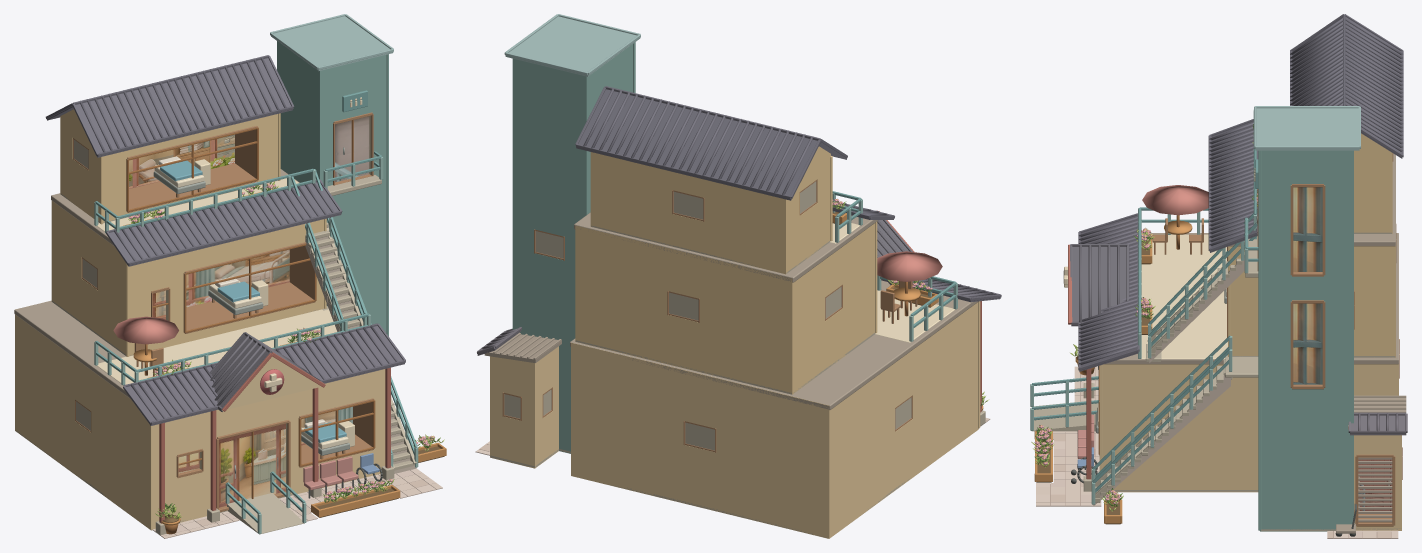
File: 24-A-5bd634cad6bb.glb
The picture shows the model from 3 angles, left to right: view 1: azimuth 30°, elevation 25°; view 2: azimuth 150°, elevation 25°; view 3: azimuth 270°, elevation 25°; orthographic projection. The views are drawn at different scales.
Parts seen in each view (by area): view 1: SM_24_01_建筑墙体, SM_24_04_门窗楼梯, SM_24_02_曲面屋顶, SM_24_06_景观设施, SM_24_03_木构回廊, SM_24_05_景观植物, SM_24_06_院内及专用铺地; view 2: SM_24_01_建筑墙体, SM_24_02_曲面屋顶, SM_24_04_门窗楼梯, SM_24_06_景观设施, SM_24_03_木构回廊, SM_24_05_景观植物; view 3: SM_24_01_建筑墙体, SM_24_02_曲面屋顶, SM_24_04_门窗楼梯, SM_24_06_院内及专用铺地, SM_24_06_景观设施, SM_24_03_木构回廊, SM_24_05_景观植物.
Part boxes in pixels (box(x1,y1,x2,y2)): SM_24_01_建筑墙体: box(15, 41, 386, 530); SM_24_04_门窗楼梯: box(14, 90, 418, 534); SM_24_02_曲面屋顶: box(45, 14, 405, 425); SM_24_06_景观设施: box(113, 156, 385, 490); SM_24_03_木构回廊: box(100, 54, 394, 535); SM_24_05_景观植物: box(123, 181, 446, 534); SM_24_06_院内及专用铺地: box(152, 226, 442, 538); SM_24_01_建筑墙体: box(490, 44, 978, 538); SM_24_02_曲面屋顶: box(477, 14, 1001, 362); SM_24_04_门窗楼梯: box(502, 179, 978, 452); SM_24_06_景观设施: box(877, 251, 942, 323); SM_24_03_木构回廊: box(633, 42, 985, 428); SM_24_05_景观植物: box(832, 198, 989, 410); SM_24_01_建筑墙体: box(1102, 133, 1401, 531); SM_24_02_曲面屋顶: box(1070, 14, 1407, 435); SM_24_04_门窗楼梯: box(1030, 110, 1402, 526); SM_24_06_院内及专用铺地: box(1036, 258, 1398, 538); SM_24_06_景观设施: box(1071, 185, 1356, 536); SM_24_03_木构回廊: box(1083, 150, 1261, 530); SM_24_05_景观植物: box(1031, 124, 1257, 524).
Bounding box in the file's own units: 11.97 × 12.11 × 10.69.
Materials: 49 (1 with a texture image).
